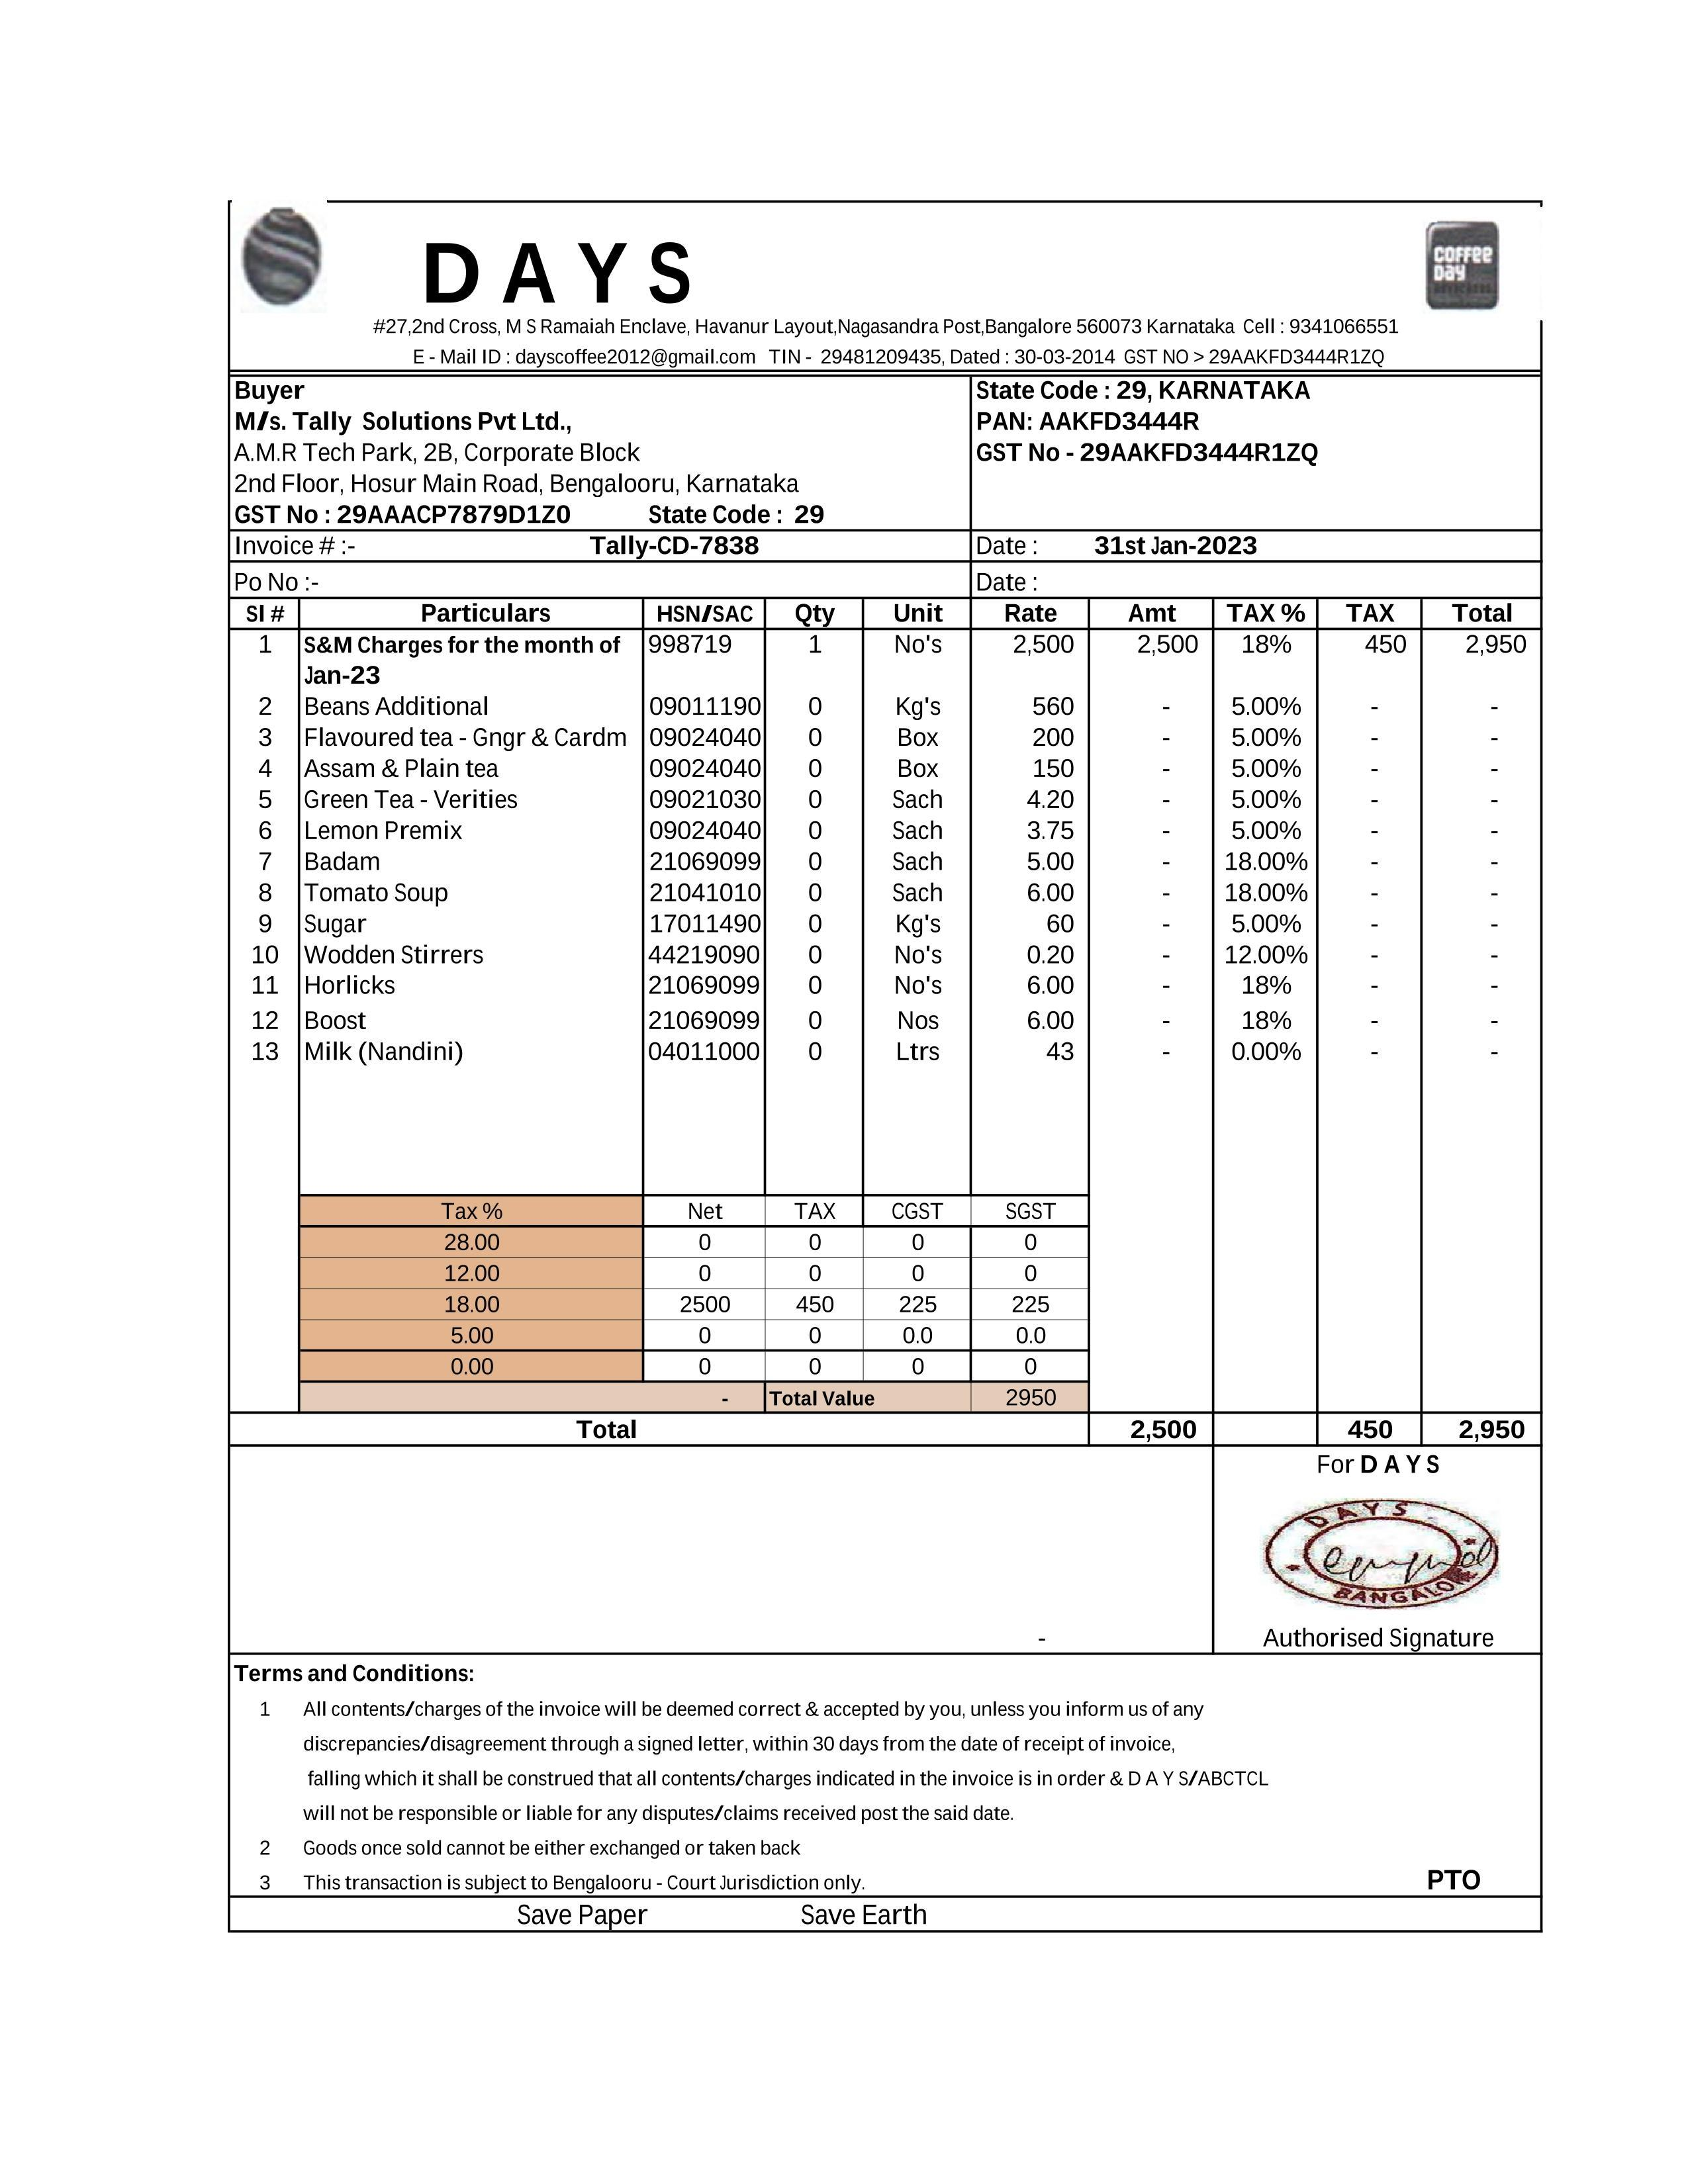InvoiceDate: (1080, 526, 1264, 565)
InvoiceNumber: (580, 526, 768, 565)
TotalAmount: (1450, 1408, 1543, 1448)
